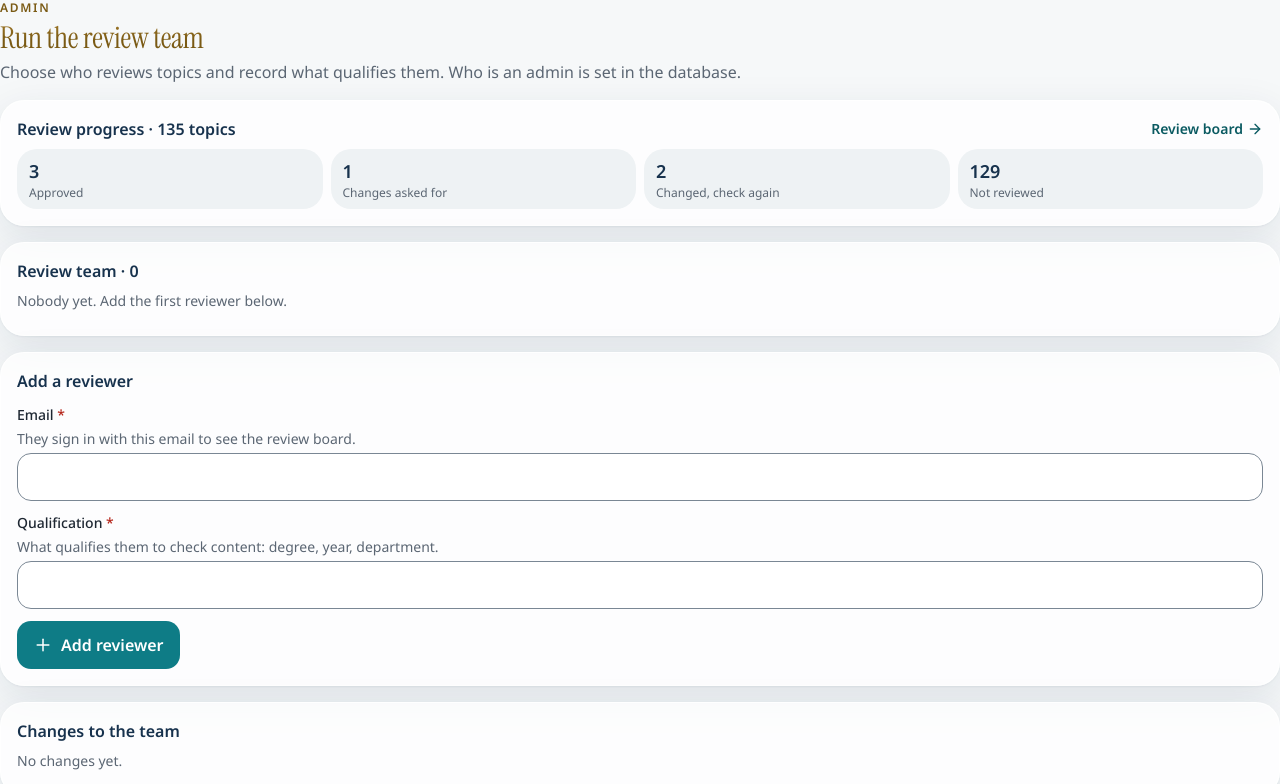
Test: AdminView › adds a reviewer with a qualification, then reloads the page data
Type "New@Example.com" into the field labelled "Email" at [640, 477], box [17,453,1263,501]
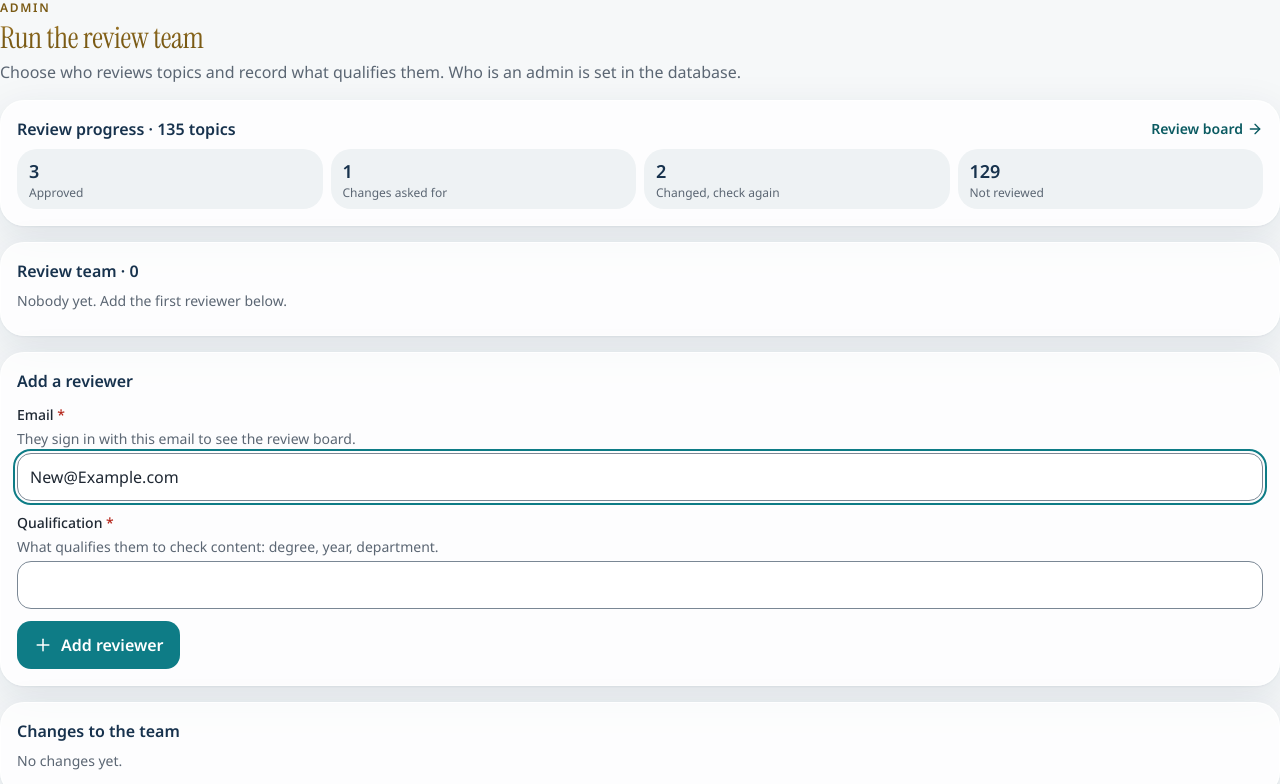
Type "MD Anatomy" into the field labelled "Qualification" at [640, 585], box [17,561,1263,609]
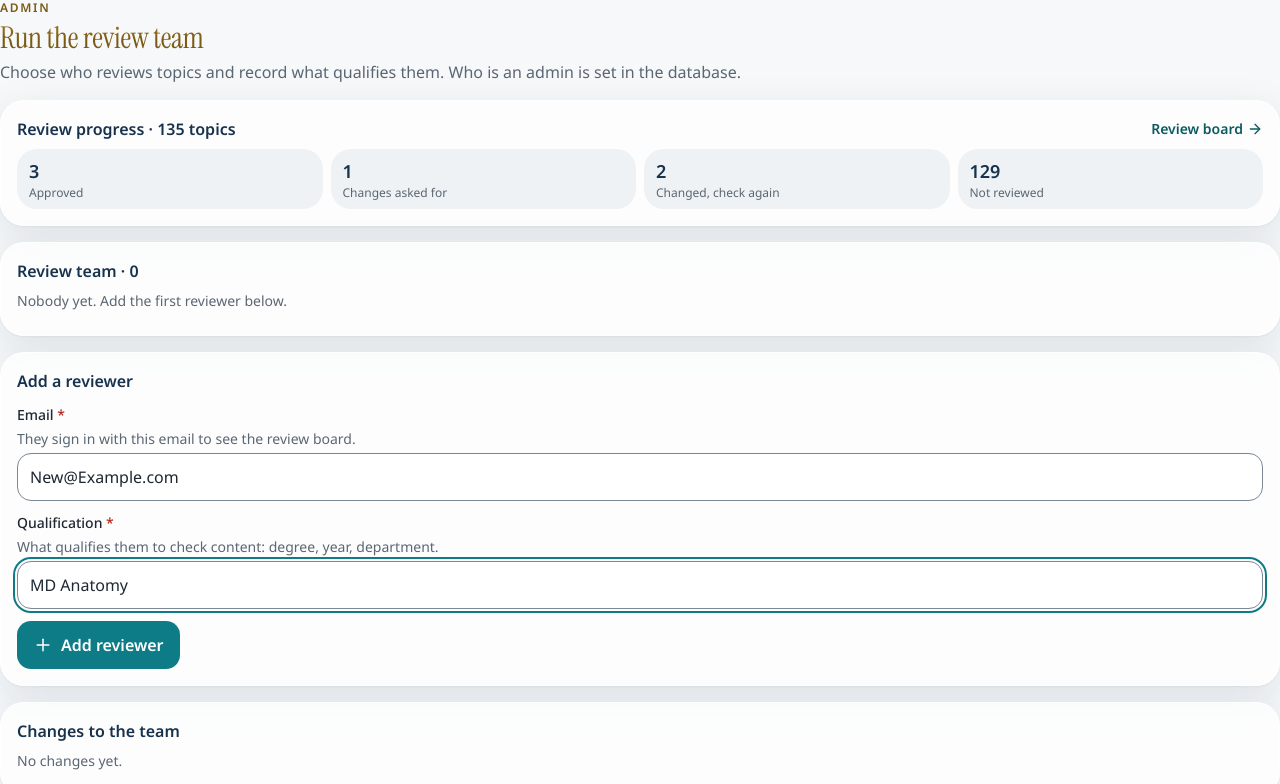
Click the button "Add reviewer" at [98, 645], box [17,621,180,669]
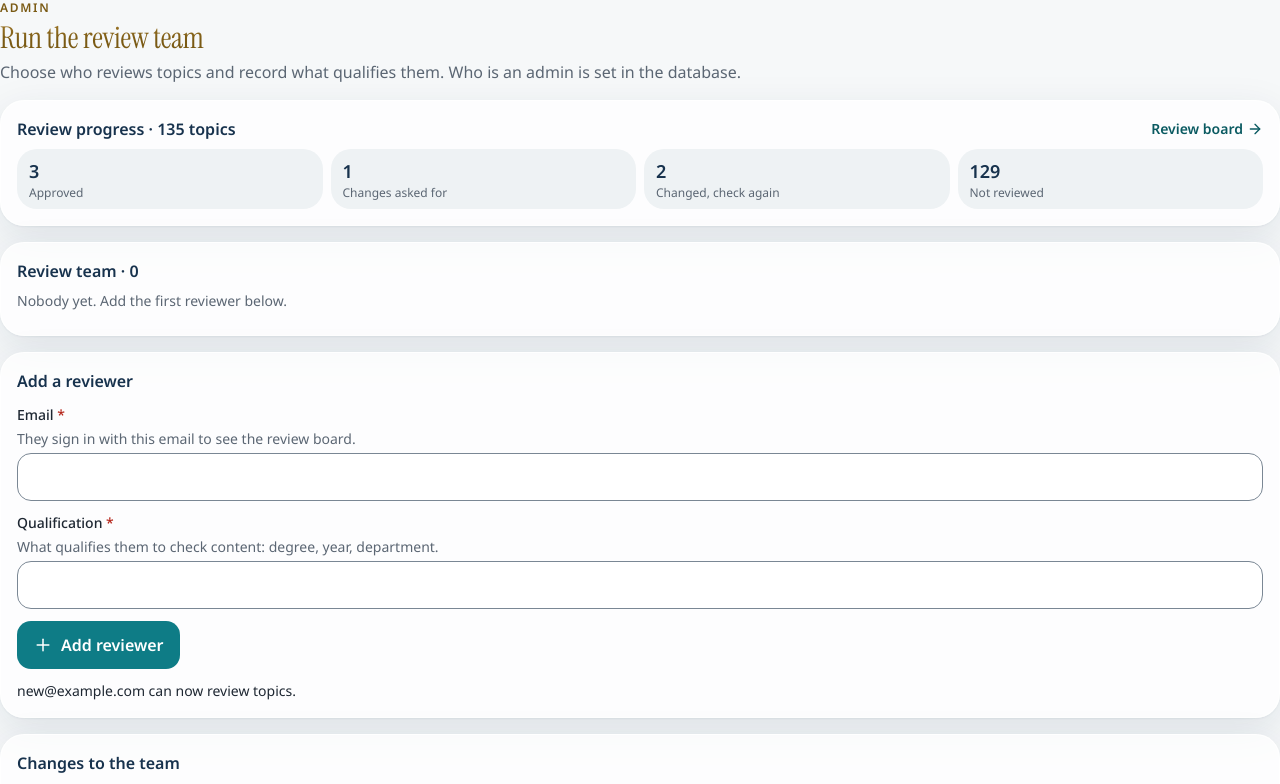
Result: the text "new@example.com can now review topics." is shown at [17,681,296,700]
